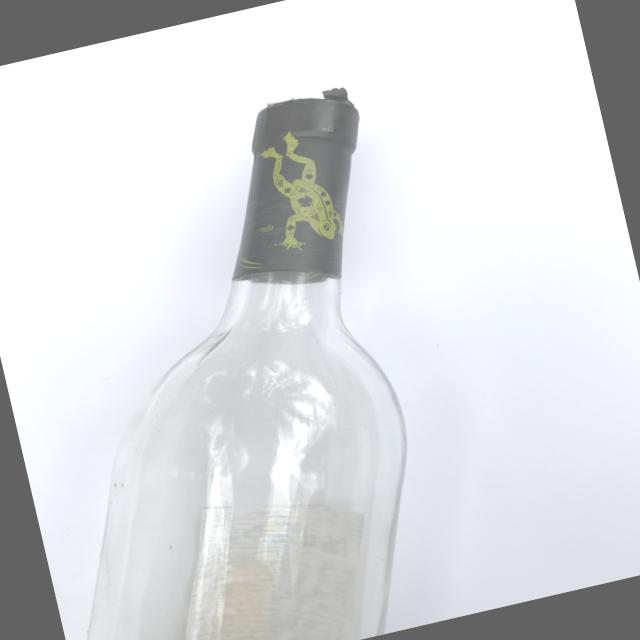Glass: (0, 60, 501, 640)
